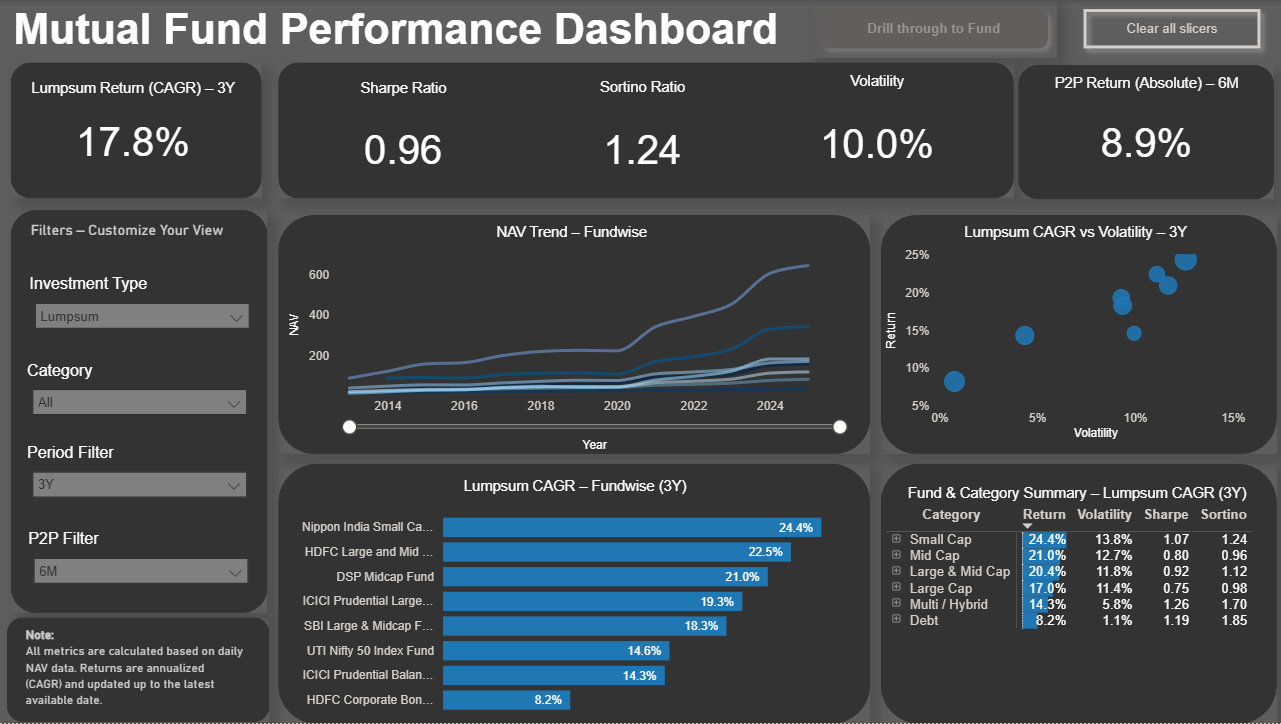

What the dashboard file says about the page in this screenshot:
{"tool":"powerbi","page":{"name":"MF dashboard","canvas":[1280,720],"ordinal":0},"visuals":[{"type":"group","id":"g1","title":"Background","box":[10.1,62.1,1264.2,658.7],"z":0},{"type":"shape","box":[24.5,200.5,235.2,408.3],"z":0,"group":"g2"},{"type":"shape","box":[13.5,208.9,255.5,401.2],"z":0,"group":"g1"},{"type":"shape","box":[23.1,630.9,226.5,89.5],"z":0,"group":"g3"},{"type":"shape","box":[279.6,62.1,731.9,135.1],"z":1000,"group":"g1"},{"type":"card","fields":{"Values":["_Measures.KPI_Selected_Return"]},"box":[14.2,74.8,243.8,106.8],"z":1000},{"type":"slicer","title":"Period Filter","fields":{"Values":["Period_Table.Period_Name"]},"box":[24.5,437.1,233.7,85.1],"z":1000,"group":"g2"},{"type":"textbox","box":[23.1,619.4,226.5,101],"z":1000,"group":"g3"},{"type":"shape","box":[14,62.1,249.8,135.1],"z":2000,"group":"g1"},{"type":"lineChart","title":"NAV Trend – Fundwise","fields":{"Category":["public nav_history.nav_date.Variation.Date Hierarchy.Year","public nav_history.nav_date.Variation.Date Hierarchy.Quarter","public nav_history.nav_date.Variation.Date Hierarchy.Month","public nav_history.nav_date.Variation.Date Hierarchy.Day"],"Series":["public fund_master.fund_name"],"Y":["_Measures.NAV_Value"]},"box":[285.9,217.6,571.7,234.7],"z":2000},{"type":"slicer","title":"Investment Type","fields":{"Values":["InvestmentType_Table.Investment_Type"]},"box":[27.4,268.3,233.7,86.6],"z":2000,"group":"g2"},{"type":"shape","box":[1016.6,64.2,254.6,133.7],"z":3000,"group":"g1"},{"type":"scatterChart","fields":{"Size":["Median(public risk_metrics.sharpe)"],"Y":["_Measures.Return_Scatter"],"X":["_Measures.Volatility_Scatter"],"Category":["public fund_master.fund_name"]},"box":[879.2,217.1,388,224.3],"z":3000},{"type":"slicer","title":"Category","fields":{"Values":["Category_Table.Category"]},"box":[24.5,354.9,233.7,88],"z":3000,"group":"g2"},{"type":"shape","box":[279.6,214.1,589,237.9],"z":4000,"group":"g1"},{"type":"barChart","fields":{"Category":["public fund_master.fund_name"],"Y":["_Measures.Return_Scatter"]},"box":[286.5,469.9,578.4,250.9],"z":4000},{"type":"slicer","title":"P2P Filter","fields":{"Values":["P2P_Period_Table.P2P_Period"]},"box":[25.9,522.2,233.7,86.6],"z":4000,"group":"g2"},{"type":"card","title":"Sharpe Ratio","fields":{"Values":["_Measures.KPI_Sharpe_Ratio"]},"box":[286.5,74.8,236.7,122.8],"z":5000},{"type":"textbox","box":[28.1,215.6,232.3,34.6],"z":5000,"group":"g2"},{"type":"shape","box":[279.6,461.9,589,259],"z":5000,"group":"g1"},{"type":"card","title":"Sortino Ratio","fields":{"Values":["_Measures.KPI_Sortino_Ratio"]},"box":[525,73,234.9,124.6],"z":6000},{"type":"shape","box":[880.2,214.1,394.1,237.9],"z":6000,"group":"g1"},{"type":"card","title":"Volatility","fields":{"Values":["_Measures.KPI_Volatility"]},"box":[758.2,67.6,236.7,124.6],"z":7000},{"type":"shape","box":[880.2,461.9,394.1,259],"z":7000,"group":"g1"},{"type":"card","fields":{"Values":["_Measures.KPI_Selected_P2P_Return"]},"box":[1021.6,69.4,245.6,119.2],"z":8000},{"type":"shape","box":[10.1,614.6,261.1,103.9],"z":8000,"group":"g1"},{"type":"pivotTable","fields":{"Rows":["Category_Table.Category","public fund_master.fund_name"],"Values":["_Measures.KPI_Selected_Return","_Measures.KPI_Volatility","_Measures.KPI_Sharpe_Ratio","_Measures.KPI_Sortino_Ratio"]},"box":[880.1,477.6,391,197.7],"z":9000},{"type":"group","id":"g2","title":"Filter","box":[24.5,200.5,236.6,408.3],"z":10000},{"type":"group","id":"g3","title":"Note","box":[23.1,619.4,226,101.4],"z":11000},{"type":"textbox","box":[10.7,0,799.1,74.8],"z":12000},{"type":"actionButton","box":[809.8,0,245.1,57.2],"z":13000},{"type":"actionButton","box":[1072.3,0,194.1,57.2],"z":14000}]}

Visuals, with their boxes in screenshot pixels (x1, y1, x2, y2), scaled from the page's 1280x720 canvas onto the 1281x724 screenshot:
"Background" group: bbox=[10, 62, 1275, 723]
shape: bbox=[25, 202, 260, 612]
shape: bbox=[14, 210, 269, 613]
shape: bbox=[23, 634, 250, 723]
shape: bbox=[280, 62, 1012, 198]
card - _Measures.KPI_Selected_Return: bbox=[14, 75, 258, 183]
"Period Filter" slicer: bbox=[25, 440, 258, 525]
textbox: bbox=[23, 623, 250, 723]
shape: bbox=[14, 62, 264, 198]
"NAV Trend – Fundwise" lineChart: bbox=[286, 219, 858, 455]
"Investment Type" slicer: bbox=[27, 270, 261, 357]
shape: bbox=[1017, 65, 1272, 199]
scatterChart - Median(public risk_metrics.sharpe) x _Measures.Return_Scatter: bbox=[880, 218, 1268, 444]
"Category" slicer: bbox=[25, 357, 258, 445]
shape: bbox=[280, 215, 869, 455]
barChart - public fund_master.fund_name x _Measures.Return_Scatter: bbox=[287, 473, 866, 723]
"P2P Filter" slicer: bbox=[26, 525, 260, 612]
"Sharpe Ratio" card: bbox=[287, 75, 524, 199]
textbox: bbox=[28, 217, 261, 252]
shape: bbox=[280, 464, 869, 723]
"Sortino Ratio" card: bbox=[525, 73, 760, 199]
shape: bbox=[881, 215, 1275, 455]
"Volatility" card: bbox=[759, 68, 996, 193]
shape: bbox=[881, 464, 1275, 723]
card - _Measures.KPI_Selected_P2P_Return: bbox=[1022, 70, 1268, 190]
shape: bbox=[10, 618, 271, 722]
pivotTable - Category_Table.Category x public fund_master.fund_name: bbox=[881, 480, 1272, 679]
"Filter" group: bbox=[25, 202, 261, 612]
"Note" group: bbox=[23, 623, 249, 723]
textbox: bbox=[11, 0, 810, 75]
actionButton: bbox=[810, 0, 1056, 58]
actionButton: bbox=[1073, 0, 1267, 58]
